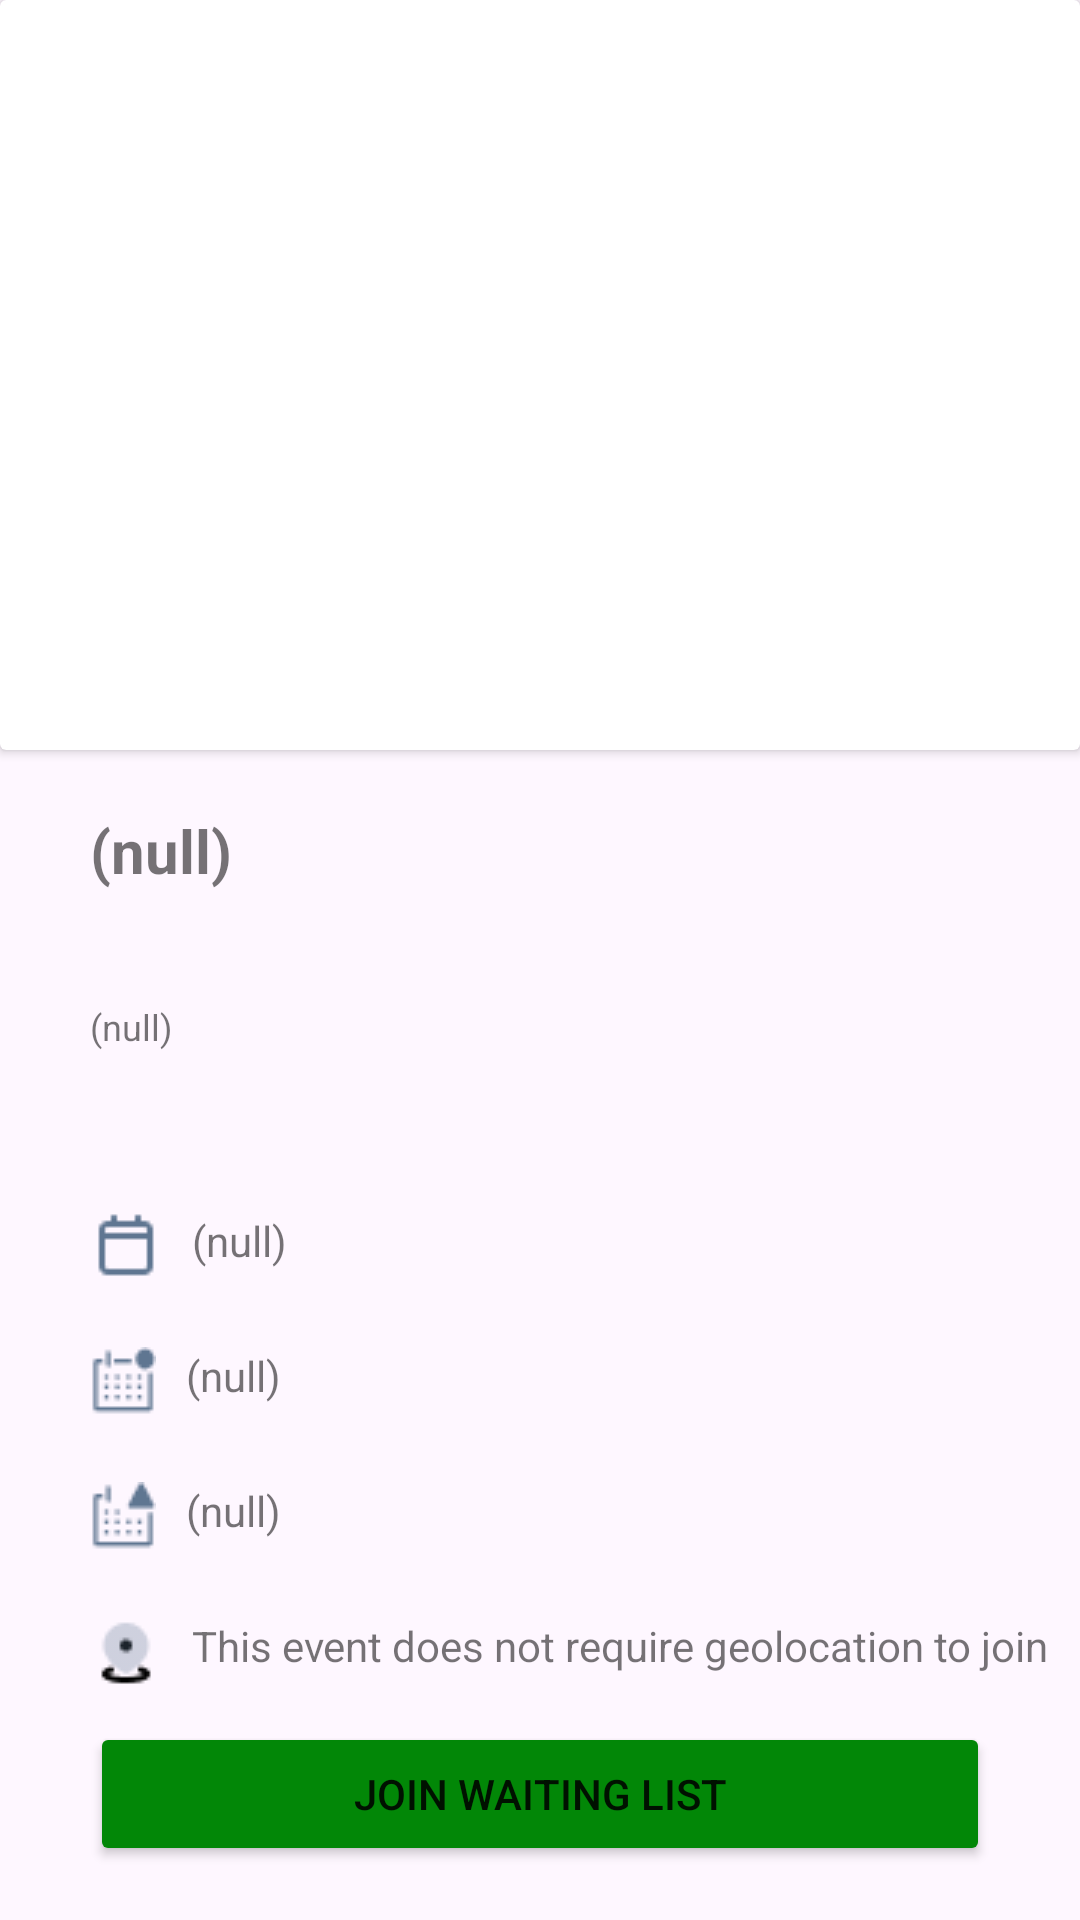

Where to tap for icons on this 1080*1920 app screen, as (x,y):
calendar: (126,1245)
end date: (124,1515)
start date: (124,1380)
